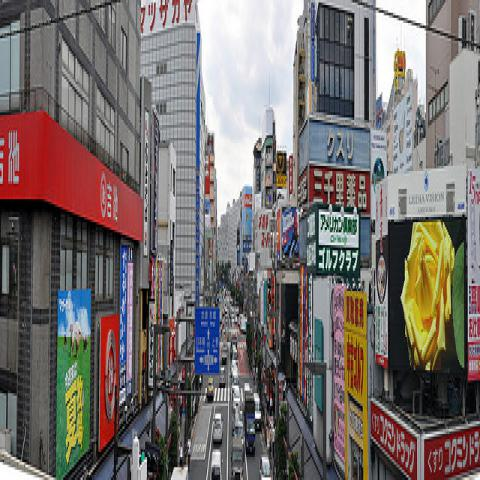car: (218, 286, 254, 442), (232, 438, 244, 473), (232, 404, 244, 434), (259, 452, 273, 477), (253, 392, 262, 430), (210, 451, 222, 479), (213, 412, 223, 443), (233, 386, 241, 412), (231, 350, 239, 374), (219, 364, 226, 389), (231, 366, 239, 386), (207, 377, 214, 399), (234, 315, 237, 325)
truck: (244, 393, 255, 453), (170, 462, 190, 478)
